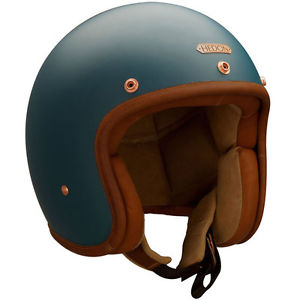with_helmet: (22, 1, 274, 285)
